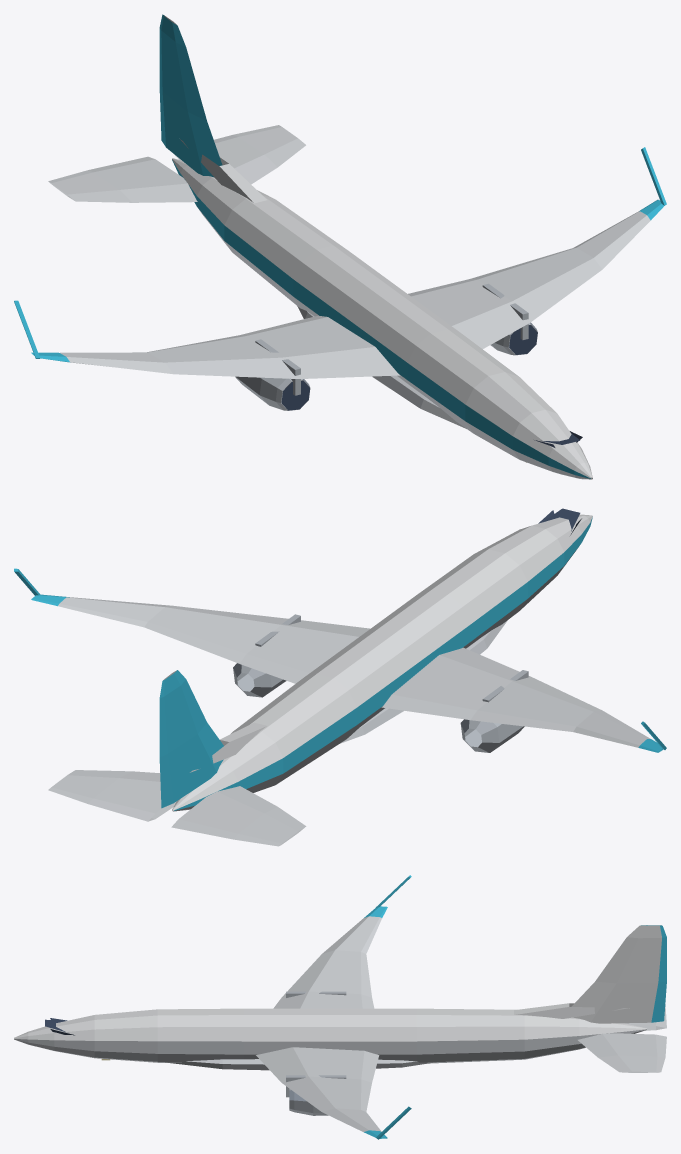
Rendered from airliner.glb.
3 renders of one model, top to bottom at view 1: azimuth 30°, elevation 25°; view 2: azimuth 150°, elevation 25°; view 3: azimuth 270°, elevation 25°, orthographic. The views are drawn at different scales.
Visible parts, largest first — view 1: airliner; view 2: airliner; view 3: airliner.
Boxes of the visible parts, x1,y1,x2,y2 form: airliner: [14, 14, 666, 479]; airliner: [14, 508, 666, 846]; airliner: [14, 875, 666, 1139].
Bounding box in the file's own units: 38.25 × 11.23 × 45.4.
